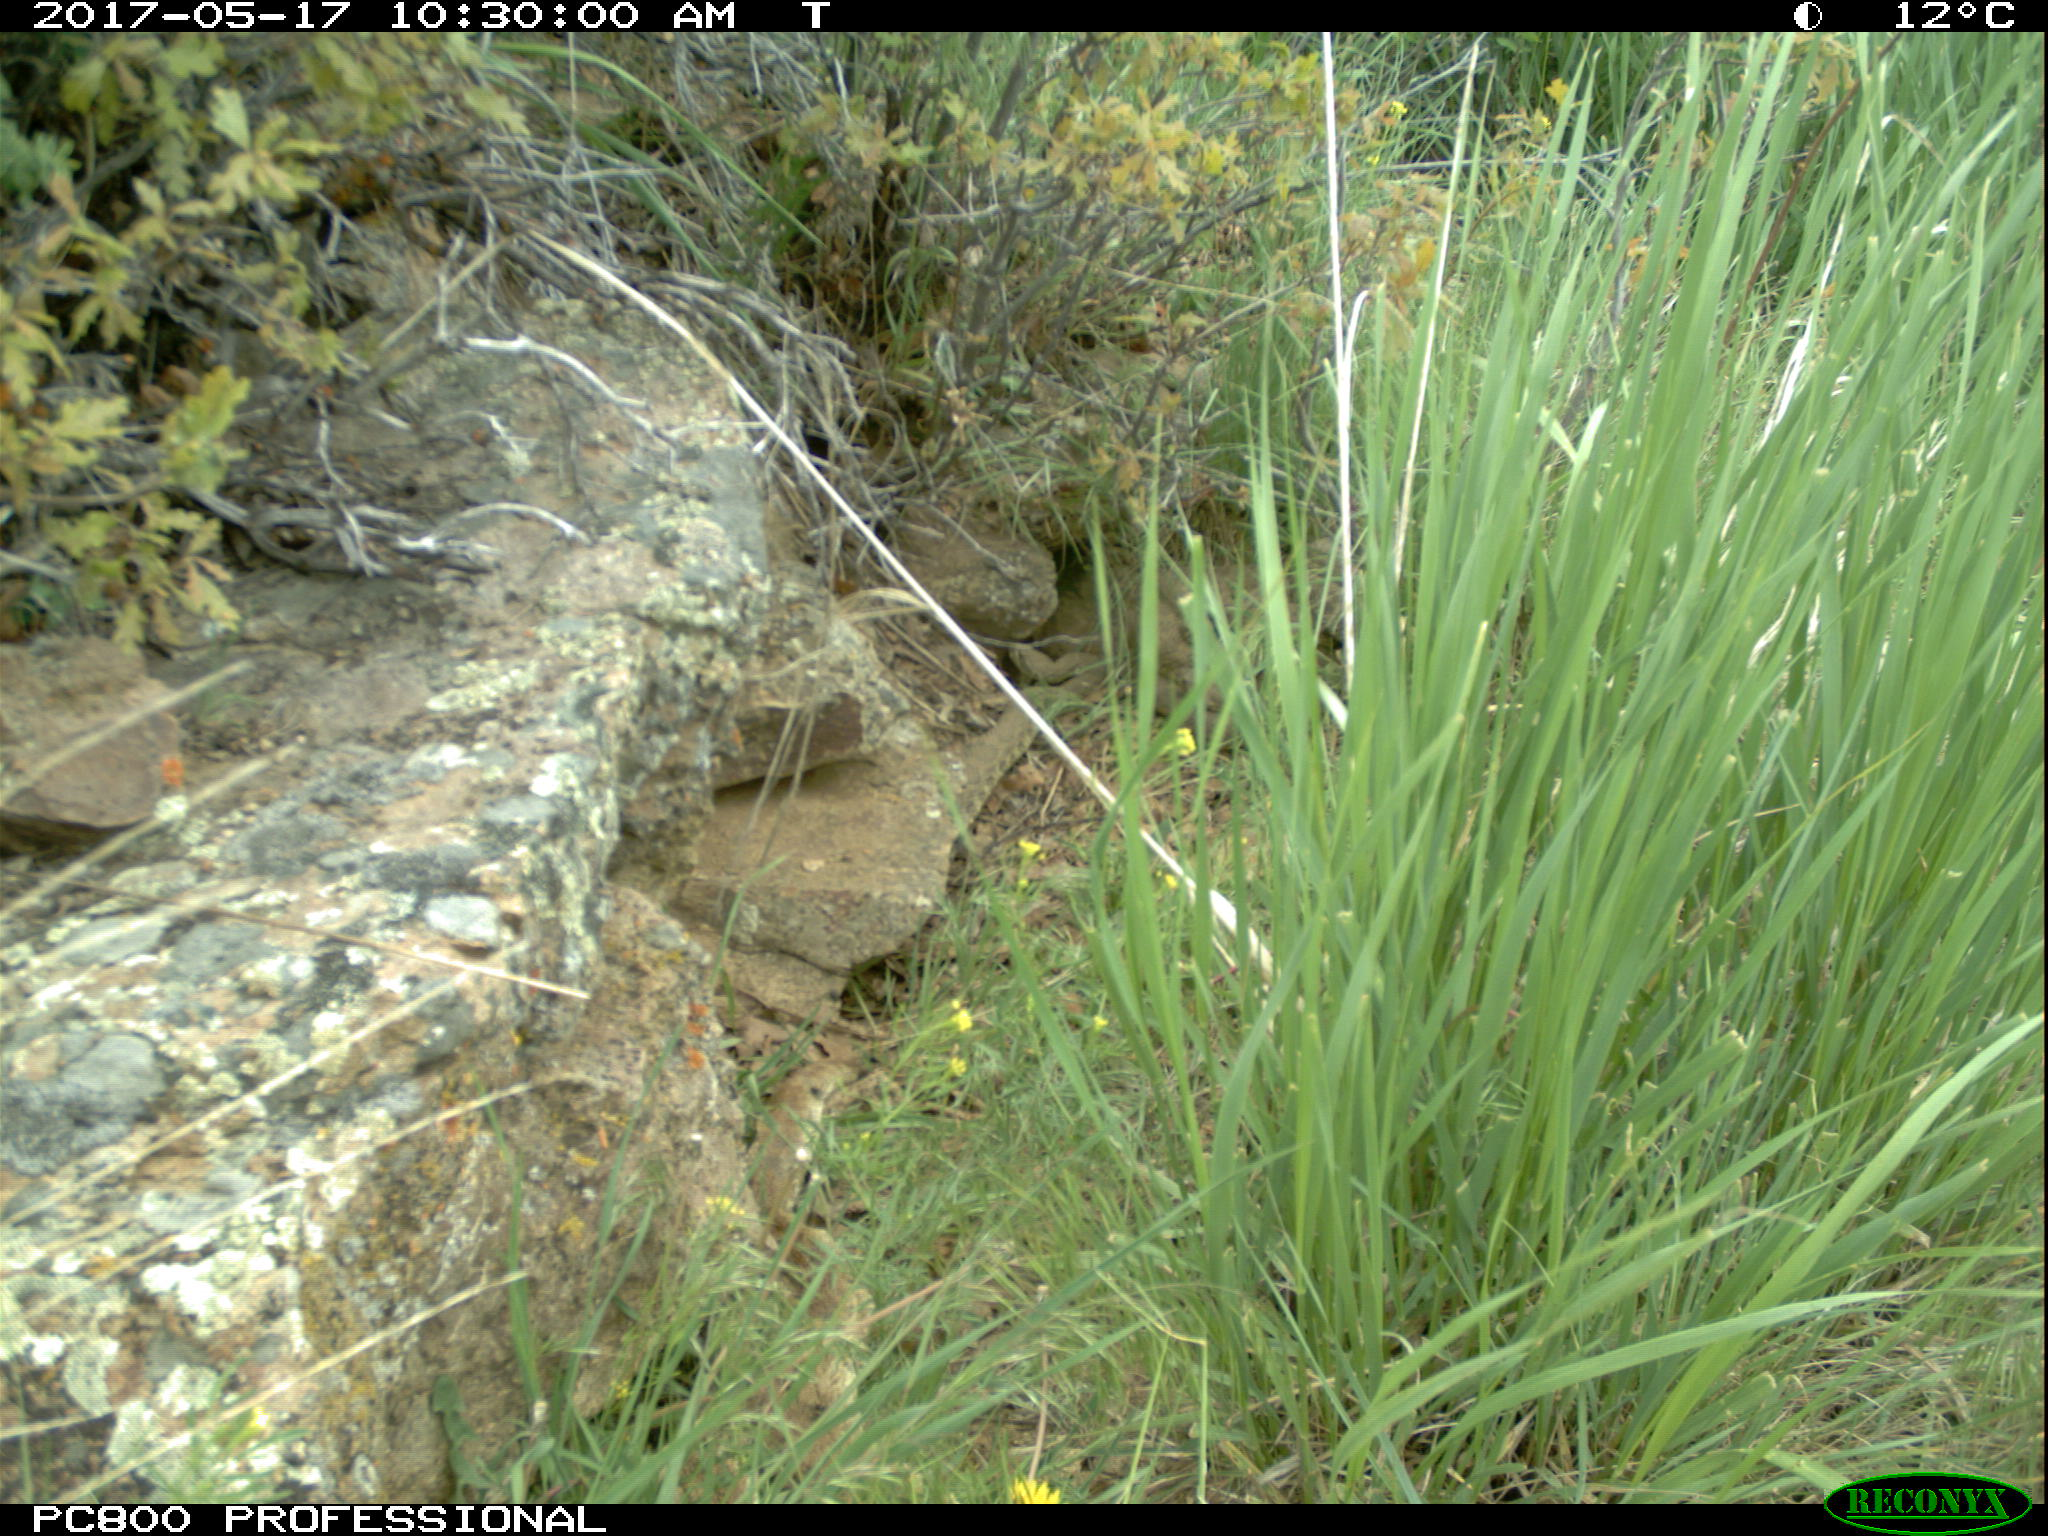snake: (742, 1058, 860, 1465), (1000, 573, 1292, 731)
